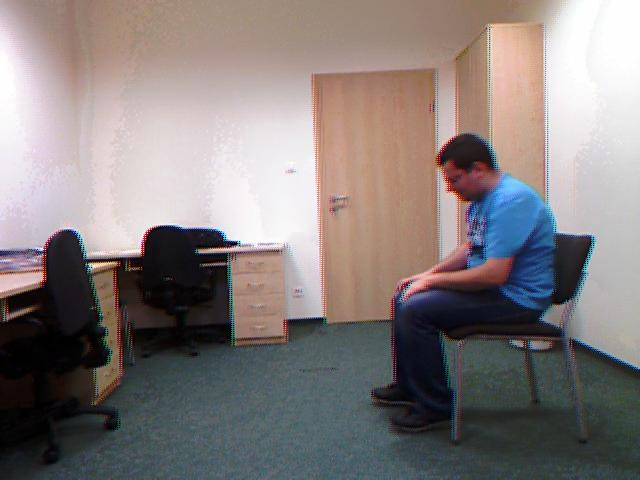sitting: (374, 132, 555, 431)
